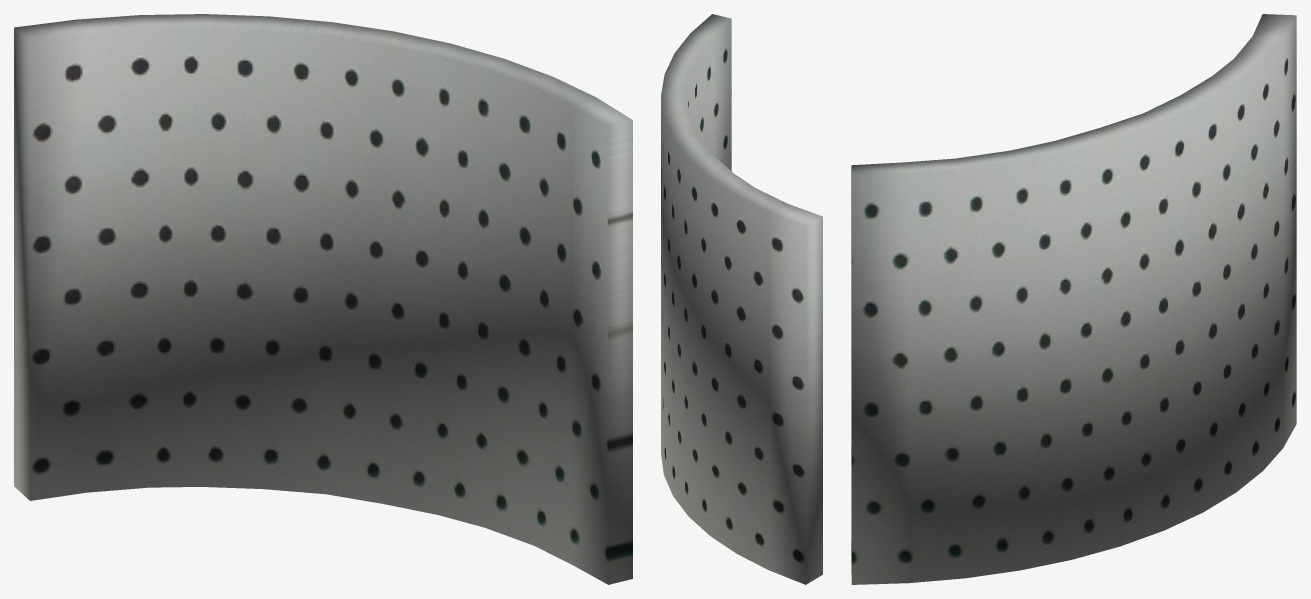
File: MESA DO DIONATA BIBLIOTECA 1.fbx
3 views of the same model, side by side, from view 1: azimuth 30°, elevation 25°; view 2: azimuth 150°, elevation 25°; view 3: azimuth 270°, elevation 25° (orthographic). The views are drawn at different scales.
Parts seen in each view (by area): view 1: PLACA DE METAL LATERAL; view 2: PLACA DE METAL LATERAL; view 3: PLACA DE METAL LATERAL.
Part boxes in pixels (x1,y1,x2,y2): PLACA DE METAL LATERAL: (14, 14, 632, 584); PLACA DE METAL LATERAL: (661, 14, 822, 584); PLACA DE METAL LATERAL: (851, 14, 1296, 584).
Bounding box in the file's own units: 0.7559 × 0.8905 × 0.878.
Materials: 1 (1 with a texture image).
